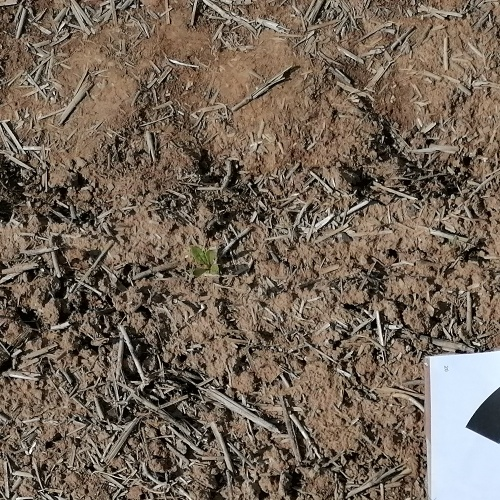beet: (189, 242, 221, 274)
